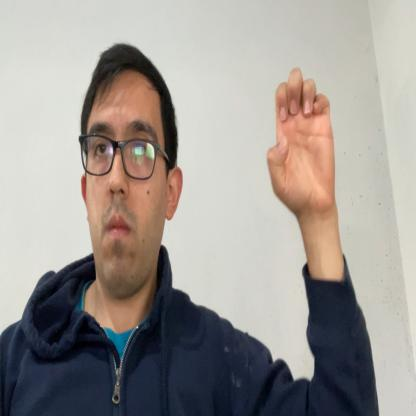E: (266, 66, 337, 212)
